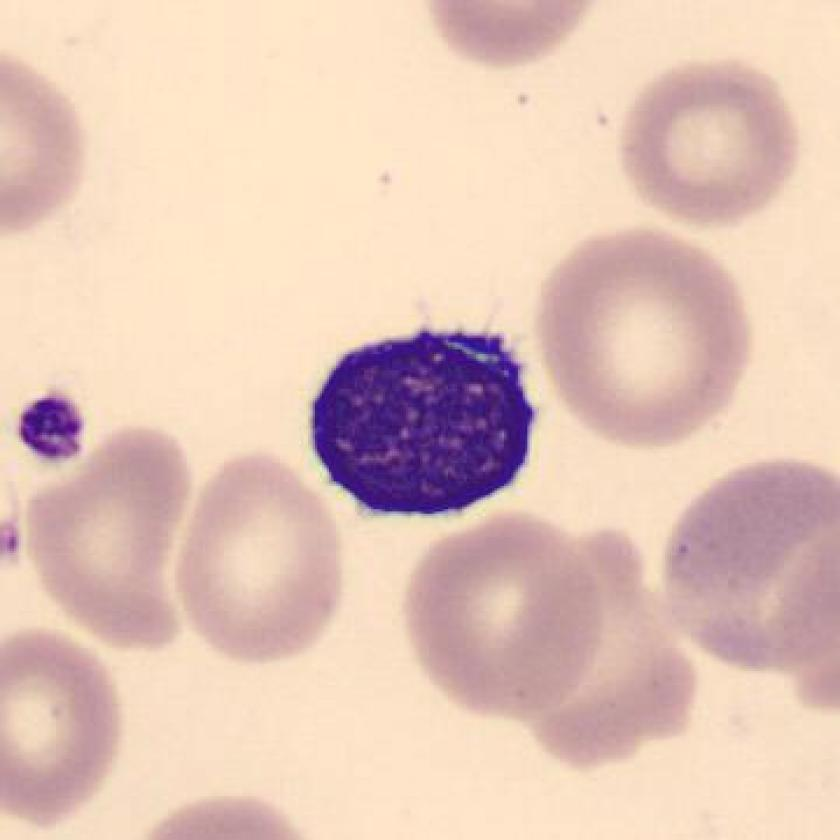lymphocyte: (297, 311, 545, 538)
